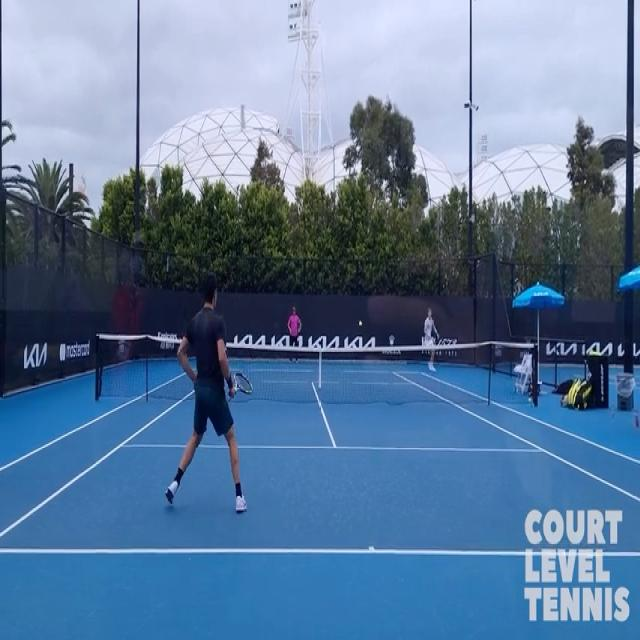ready-position: (163, 262, 259, 519)
